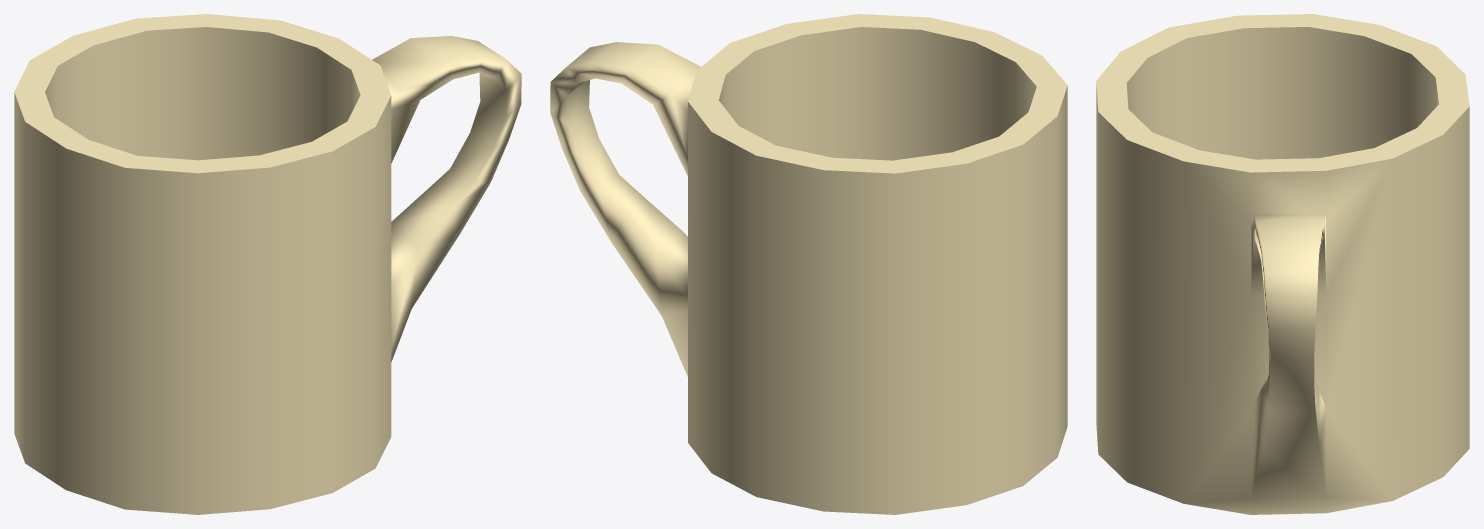
Rendered from SM_Mug_01.fbx.
3 views of the same model, side by side, from view 1: azimuth 30°, elevation 25°; view 2: azimuth 150°, elevation 25°; view 3: azimuth 270°, elevation 25° (orthographic).
Visible parts, largest first — view 1: SM_Mug_01; view 2: SM_Mug_01; view 3: SM_Mug_01.
Part boxes in pixels (box(x1,y1,x2,y2)): SM_Mug_01: box(14, 14, 521, 514); SM_Mug_01: box(550, 14, 1067, 514); SM_Mug_01: box(1096, 14, 1469, 514).
Size of the model in its own units: 19.74 by 13.59 by 13.43.
